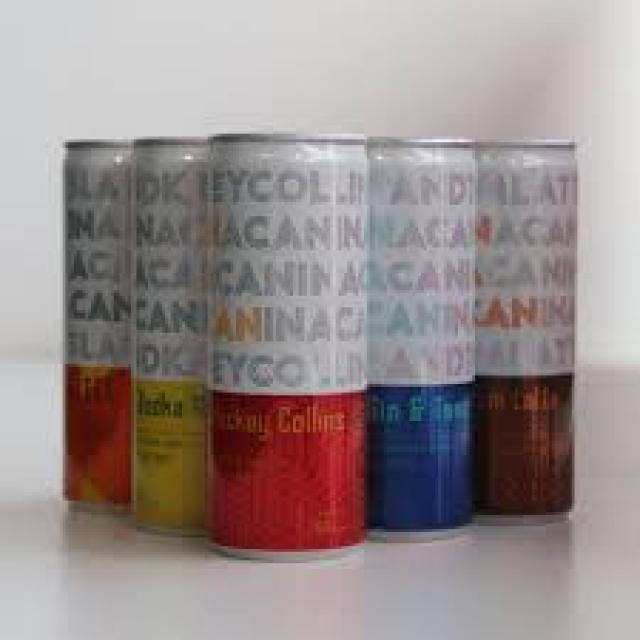Cans: (193, 125, 384, 569)
